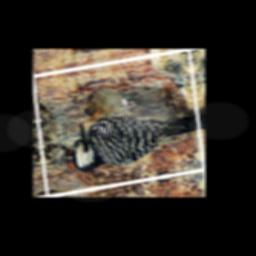Woodpecker: (62, 76, 203, 180)
